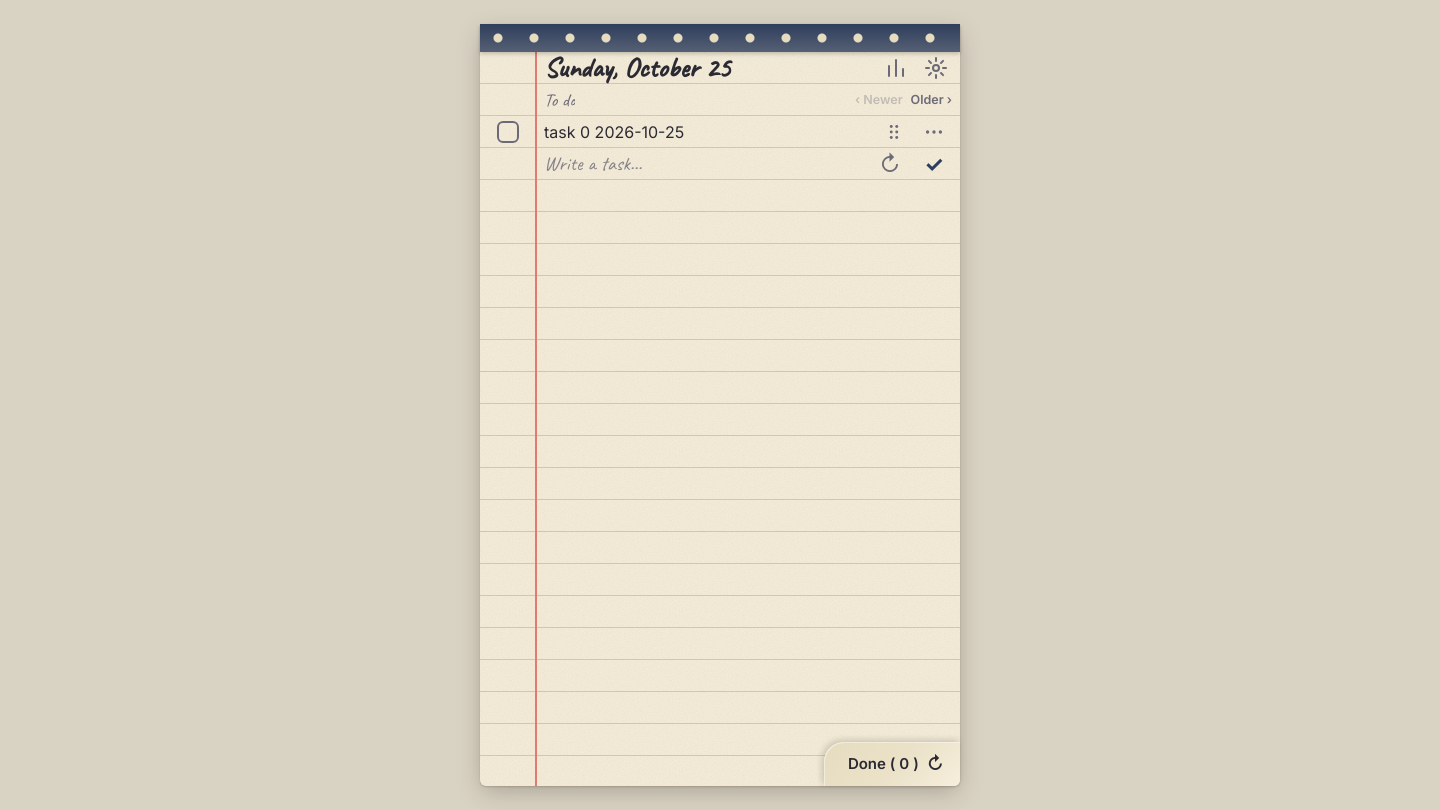
Test case: data safety information › shows the data size, protection status and a failed-save warning
The image size is (1440, 810).
Step 1. Click the button named "Settings" → x=936, y=68, box top-left (916, 46), bottom-right (956, 90)
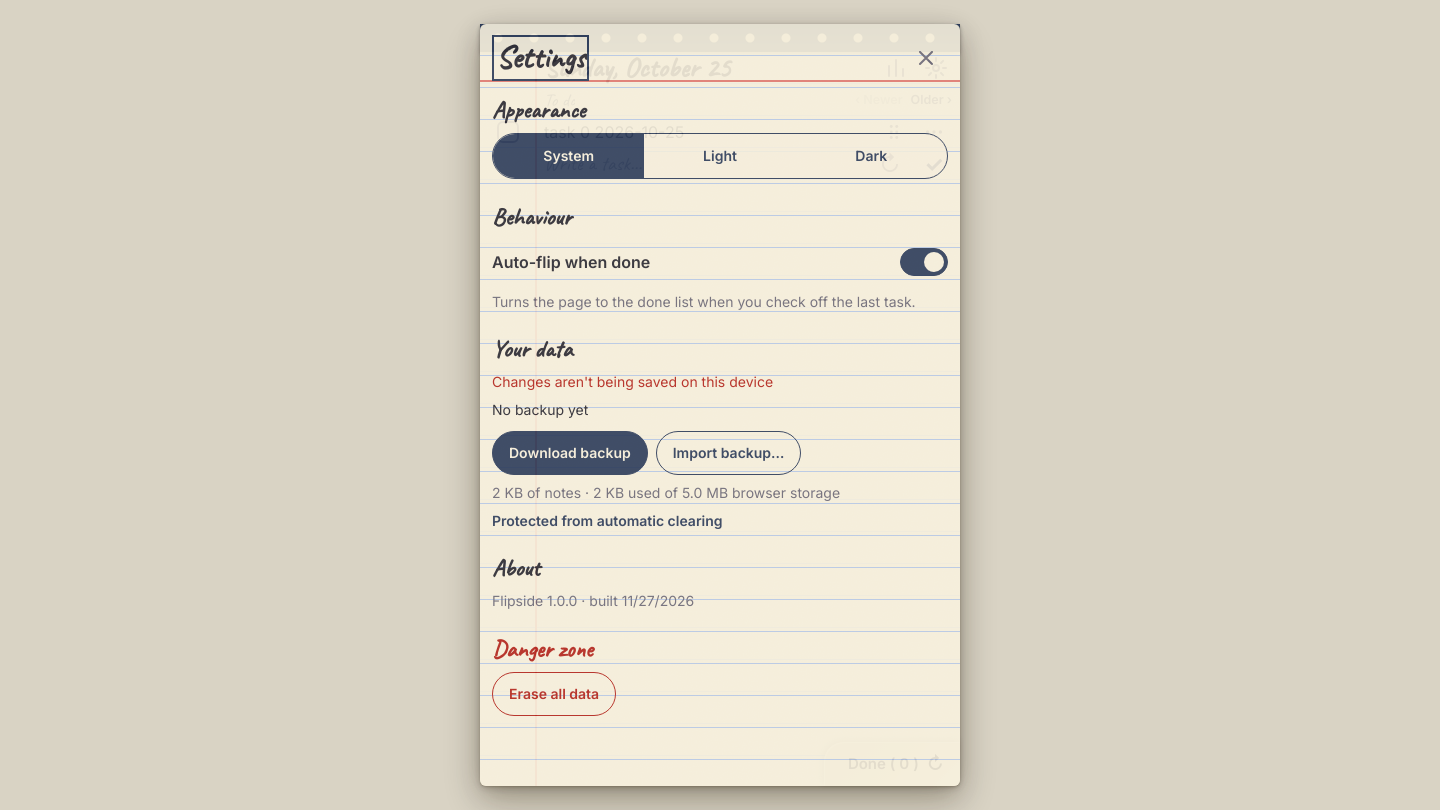
Result: the dialog "Settings" is shown at top-left (480, 24), bottom-right (960, 786)
Result: the text "Protected from automatic clearing" is shown at top-left (492, 512), bottom-right (722, 529)
Result: the text "2 KB of notes · 2 KB used of 5.0 MB browser storage" is shown at top-left (492, 484), bottom-right (840, 501)
